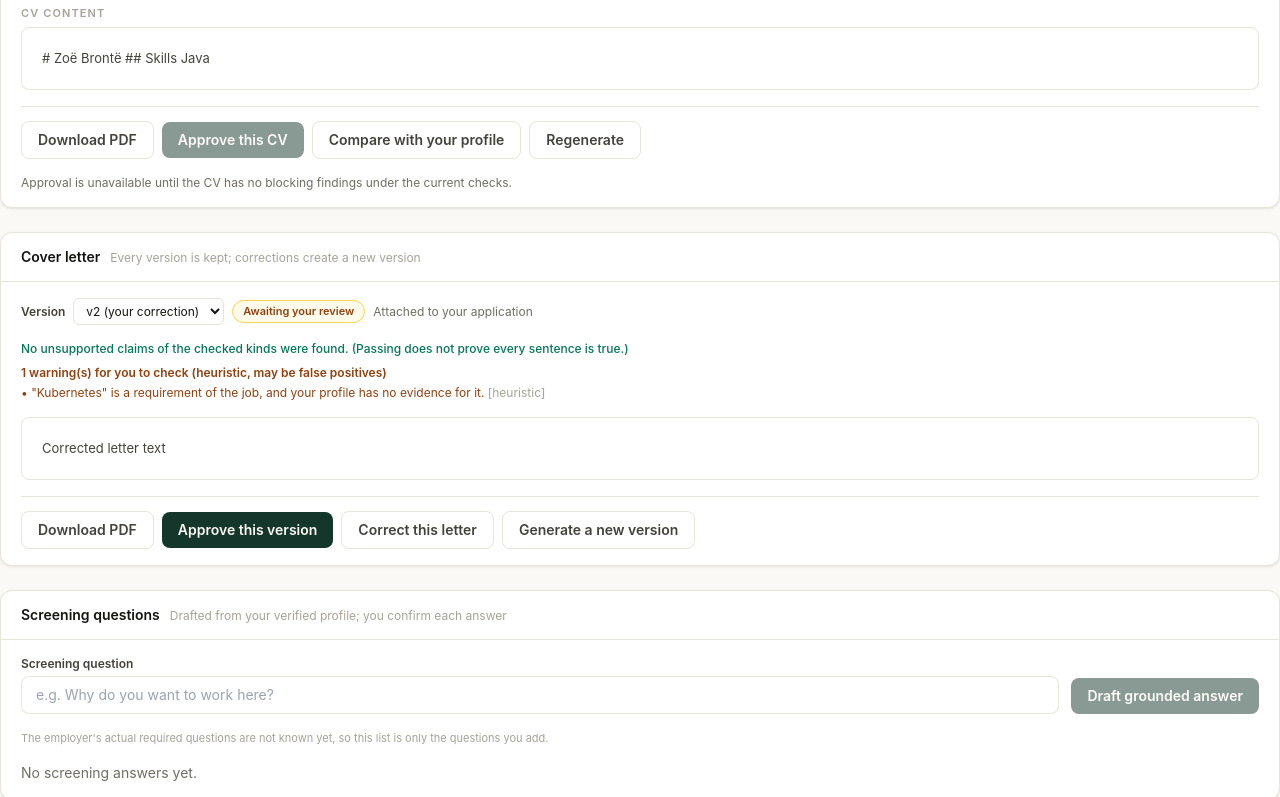
PrepWorkspace › shows a download integrity failure instead of saving the file
This screenshot has width=1280, height=797.
(page scrolled)
Click the button "Download PDF" below "Corrected letter text".
click(87, 530)  # box [21,511,154,549]
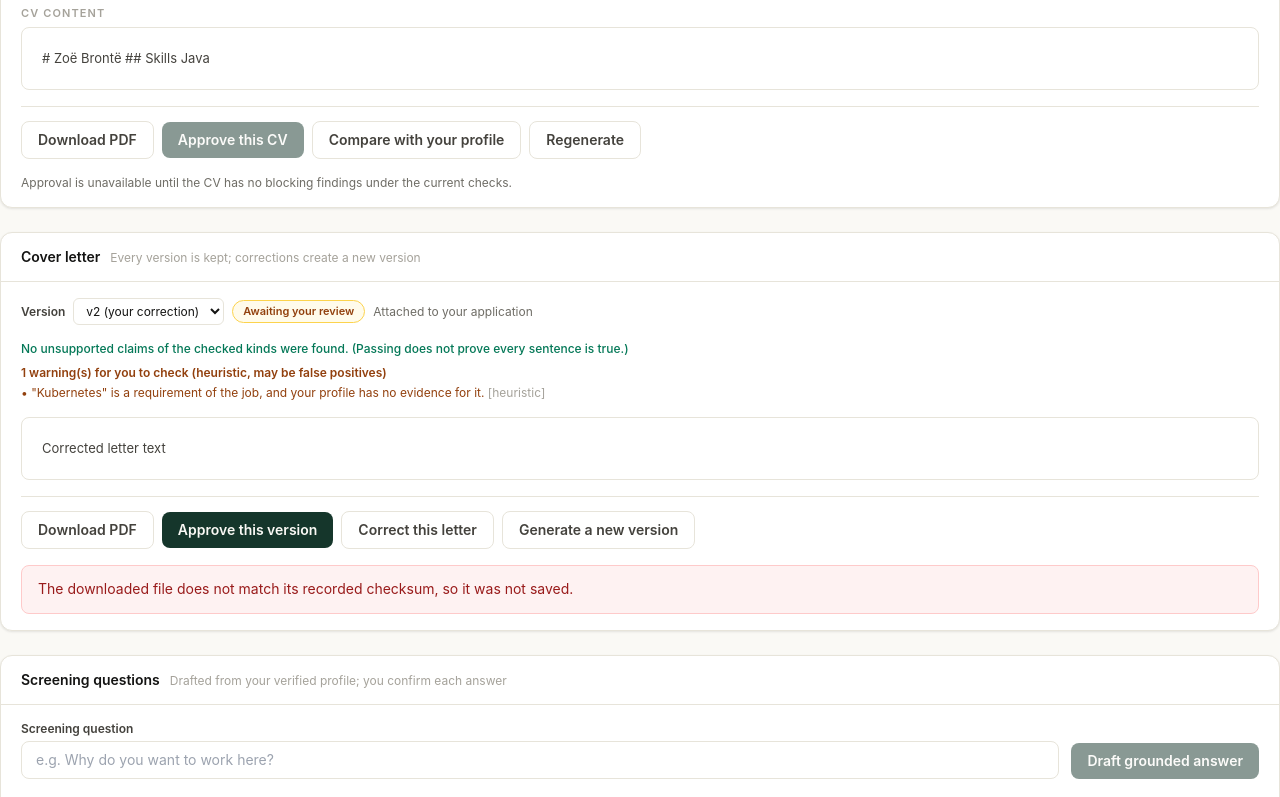
Expected: the text "The downloaded file does not match its recorded checksum, so it was not saved." is shown, [21,565,1259,614]
